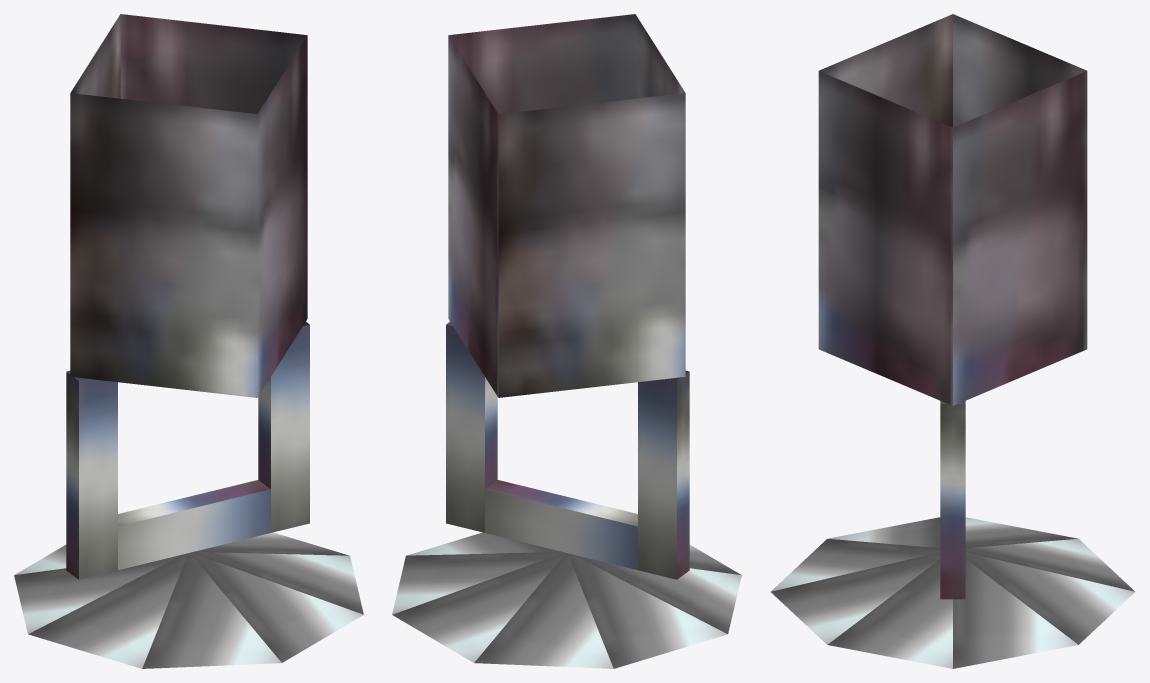
The model's file is ExtinguisherHead.FBX.
3 views of the same model, side by side, from view 1: azimuth 30°, elevation 25°; view 2: azimuth 150°, elevation 25°; view 3: azimuth 270°, elevation 25° (orthographic).
Parts seen in each view (by area): view 1: ExtinguisherHead; view 2: ExtinguisherHead; view 3: ExtinguisherHead.
Boxes of the visible parts, x1,y1,x2,y2 form: ExtinguisherHead: (14,14,363,668); ExtinguisherHead: (392,14,741,668); ExtinguisherHead: (770,14,1135,668).
Bounding box in the file's own units: 8.27 × 8.27 × 13.03.
1 material, 1 textured.
